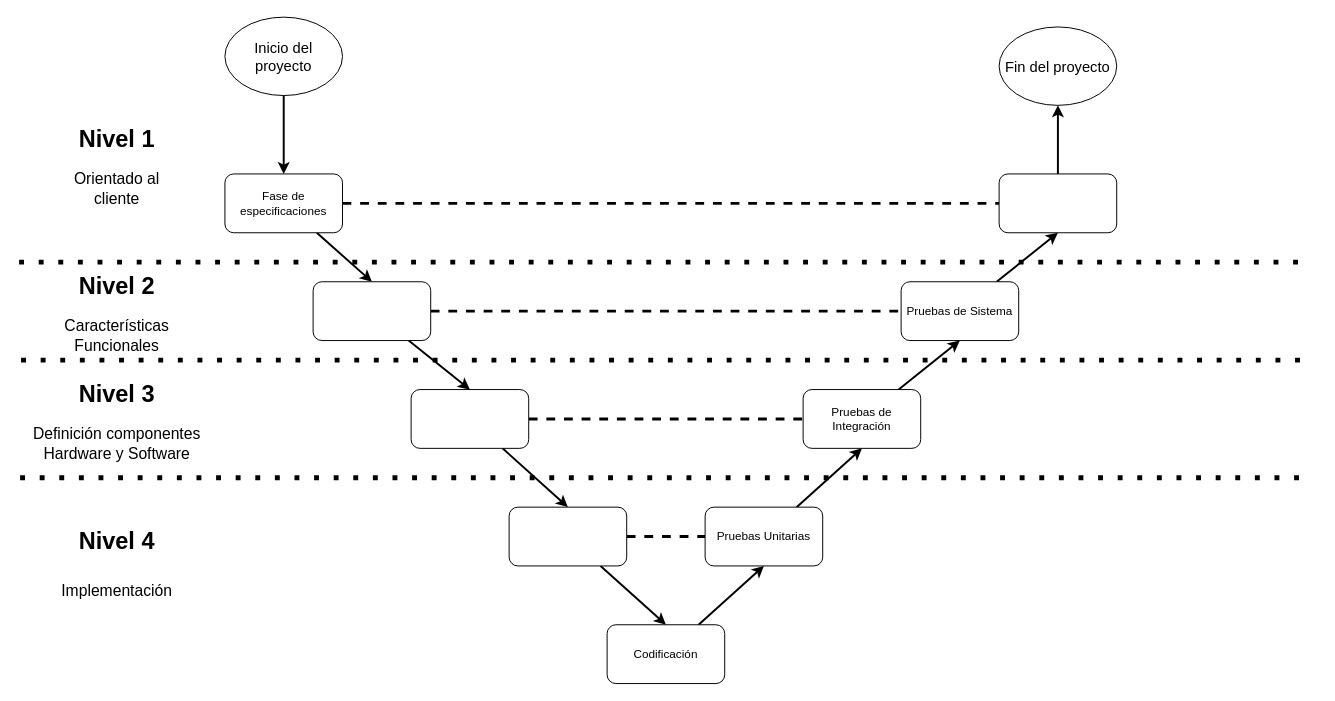
The diagram is 1335 pixels wide and 701 high, and some of its shapes have lost their labels. The shapes that lost their labels are listed below. From the top down, each one's centre as x and y in pixels, then its label:
At (x=1057, y=203): "Pruebas de Aceptación".
At (x=371, y=311): "Fase Funcional".
At (x=469, y=418): "Fase de diseño".
At (x=567, y=536): "Fase de especificación lógica de componentes".
